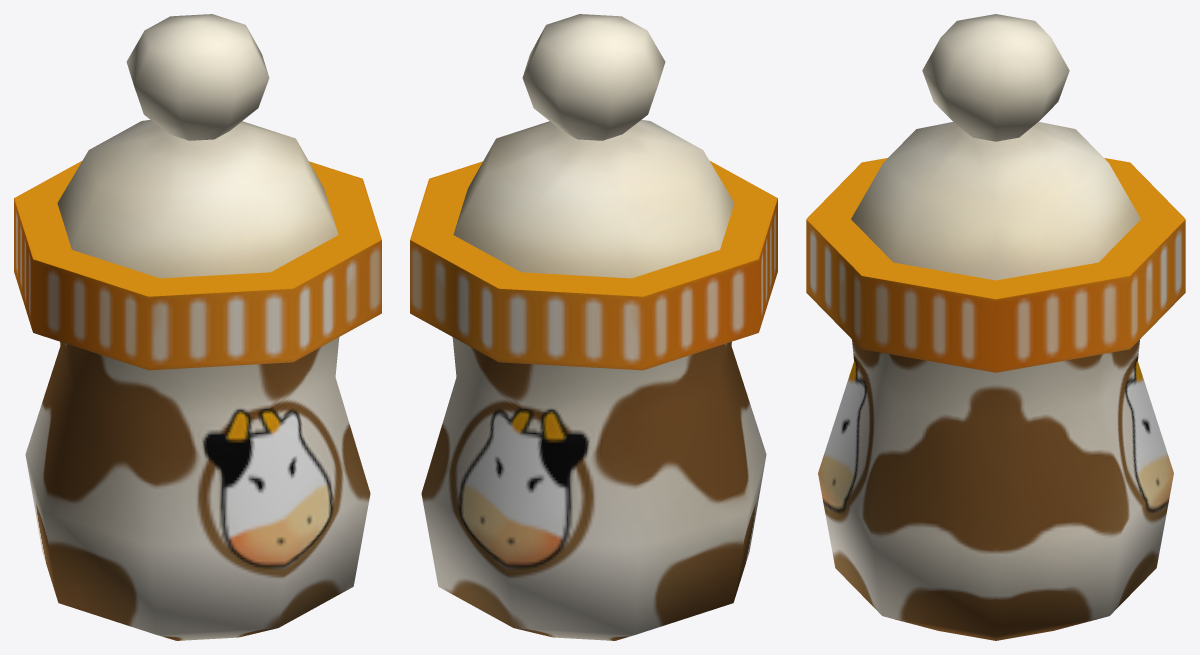
File: naipin.FBX
The picture shows the model from 3 angles, left to right: view 1: azimuth 30°, elevation 25°; view 2: azimuth 150°, elevation 25°; view 3: azimuth 270°, elevation 25°; orthographic projection.
Parts seen in each view (by area): view 1: naipin; view 2: naipin; view 3: naipin.
Part boxes in pixels (<box>): naipin: <box>14,14,381,640</box>; naipin: <box>410,14,777,640</box>; naipin: <box>806,14,1185,640</box>.
Size of the model in its own units: 52.37 by 88.79 by 52.37.
